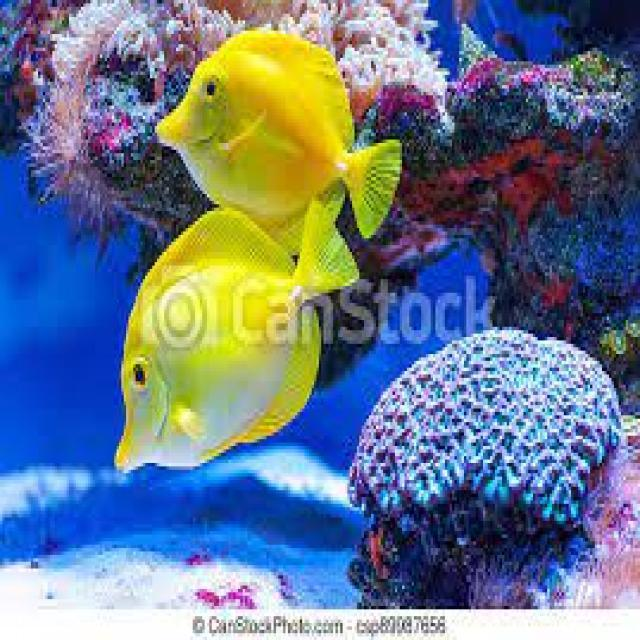TangFish: (110, 194, 364, 476), (148, 29, 404, 241)
